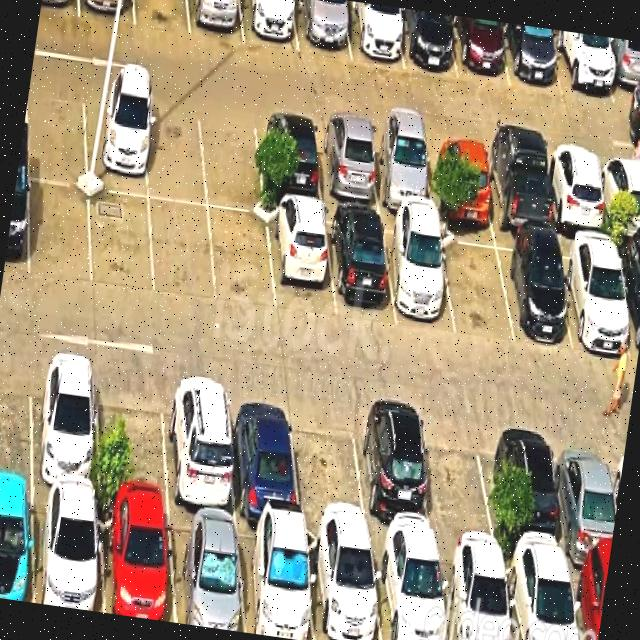empty: (422, 410, 498, 554), (291, 395, 368, 536), (98, 364, 169, 508), (439, 227, 514, 342), (199, 104, 264, 214), (149, 199, 216, 302), (90, 190, 154, 296), (145, 96, 207, 205), (209, 210, 275, 311), (30, 180, 92, 285), (27, 78, 87, 186), (0, 350, 32, 485), (134, 0, 191, 36)
occupied: (353, 404, 436, 545), (164, 374, 236, 517), (228, 384, 301, 524), (499, 419, 568, 561), (32, 353, 99, 497), (167, 511, 245, 633), (99, 501, 175, 623), (556, 237, 633, 356), (237, 521, 314, 640), (554, 427, 617, 565), (34, 490, 104, 613), (495, 234, 572, 345), (382, 217, 455, 334), (306, 529, 382, 640), (326, 209, 396, 322), (268, 202, 335, 317), (372, 541, 448, 640), (83, 87, 148, 197), (438, 547, 513, 640), (482, 141, 553, 235), (503, 555, 578, 640), (426, 133, 494, 224), (255, 112, 323, 203), (368, 125, 435, 214), (315, 119, 381, 209), (544, 147, 609, 236), (548, 29, 614, 103), (396, 7, 458, 78), (502, 22, 562, 95), (343, 0, 404, 69), (451, 15, 510, 86), (0, 487, 33, 603), (598, 153, 640, 239), (295, 0, 351, 58), (568, 562, 609, 640), (614, 243, 640, 361), (240, 0, 299, 52), (598, 36, 640, 107), (3, 174, 29, 277), (188, 0, 244, 45), (79, 0, 135, 25), (40, 0, 79, 17)
